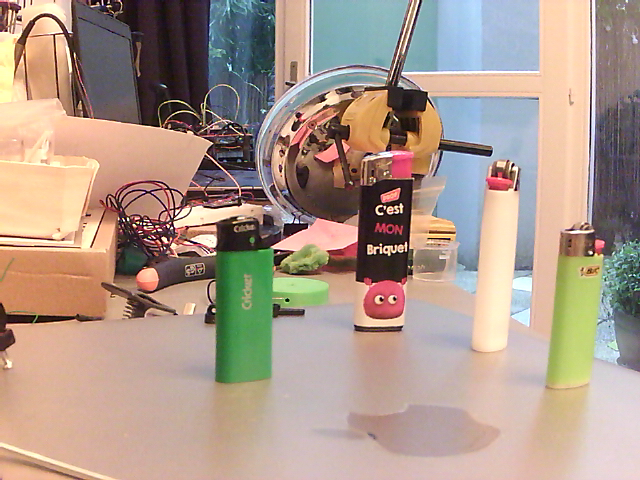lighter: (349, 146, 415, 336), (212, 214, 277, 387), (544, 221, 608, 392), (468, 160, 523, 355)
